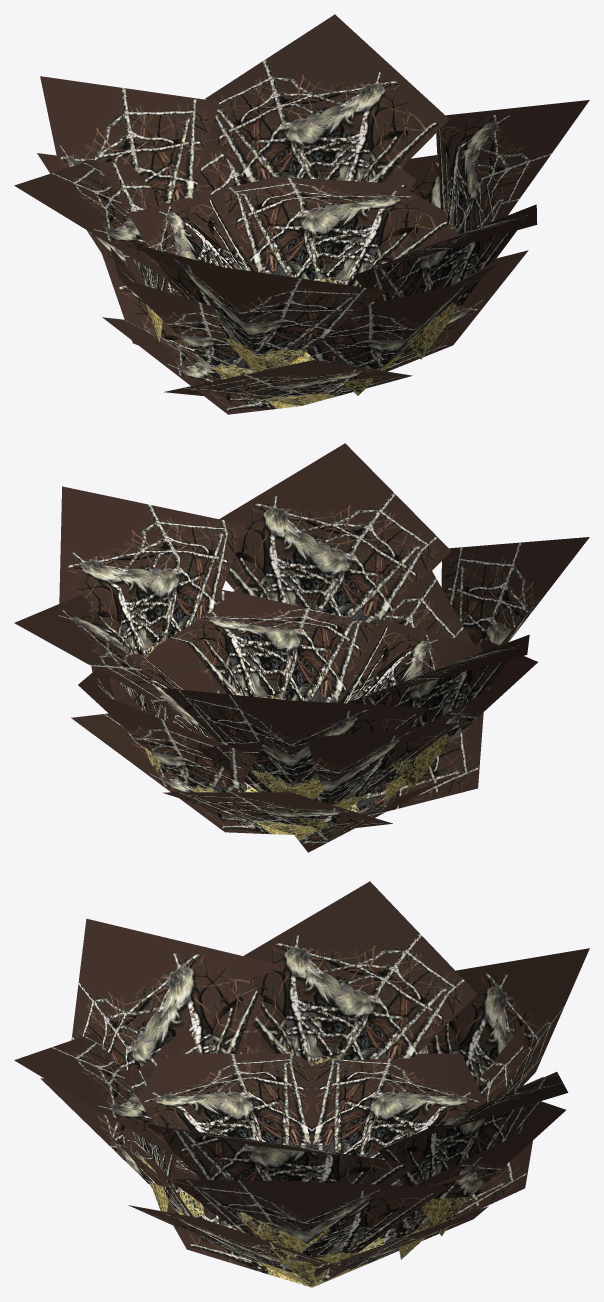
Rendered from poi_all_lair_nest_large_l2.fbx.
3 views of the same model, one above another, from view 1: azimuth 30°, elevation 25°; view 2: azimuth 150°, elevation 25°; view 3: azimuth 270°, elevation 25° (orthographic). The views are drawn at different scales.
Parts seen in each view (by area): view 1: mesh_node; view 2: mesh_node; view 3: mesh_node.
Part boxes in pixels (x1,y1,x2,y2): mesh_node: (14,14,589,414); mesh_node: (14,443,589,852); mesh_node: (14,881,589,1287).
Size of the model in its own units: 6.56 by 3.18 by 6.05.
